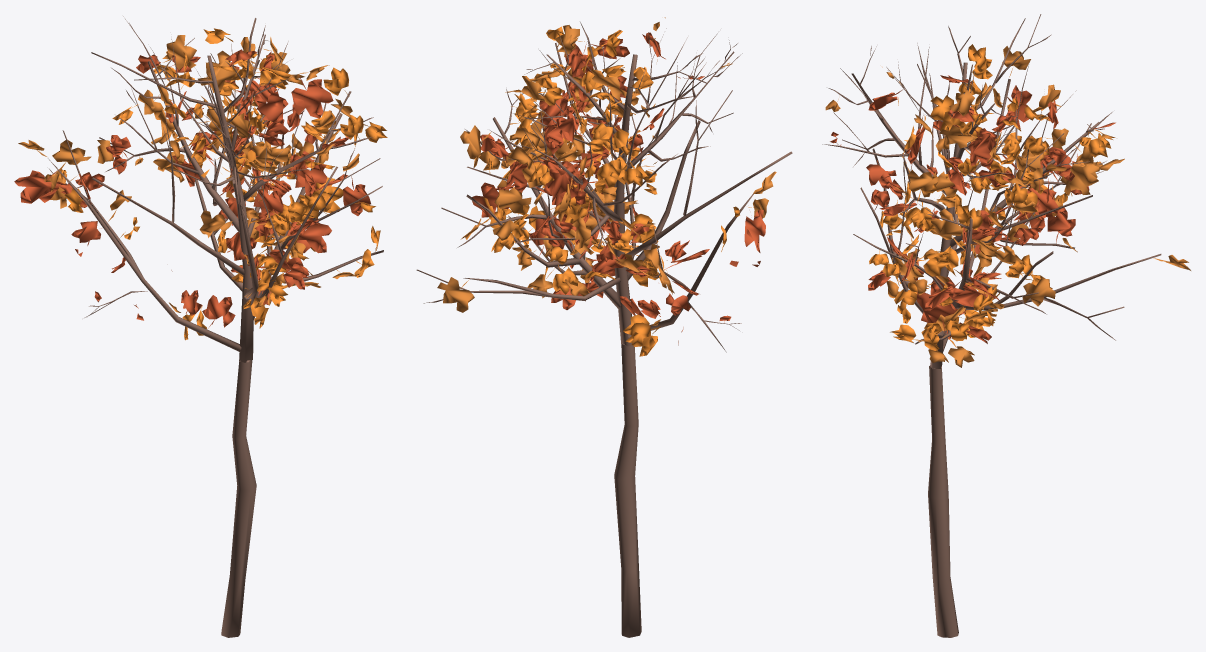
Rendered from cay.fbx.
3 views of the same model, side by side, from view 1: azimuth 30°, elevation 25°; view 2: azimuth 150°, elevation 25°; view 3: azimuth 270°, elevation 25° (orthographic). The views are drawn at different scales.
Parts seen in each view (by area): view 1: yellow, tree; view 2: yellow, tree; view 3: yellow, tree.
Part boxes in pixels (bbox=[...]): yellow: bbox=[14, 28, 387, 340]; tree: bbox=[48, 16, 383, 637]; yellow: bbox=[437, 17, 776, 356]; tree: bbox=[416, 22, 792, 637]; yellow: bbox=[825, 44, 1190, 367]; tree: bbox=[822, 14, 1161, 637].
Bounding box in the file's own units: 55.34 × 98.61 × 56.08.
